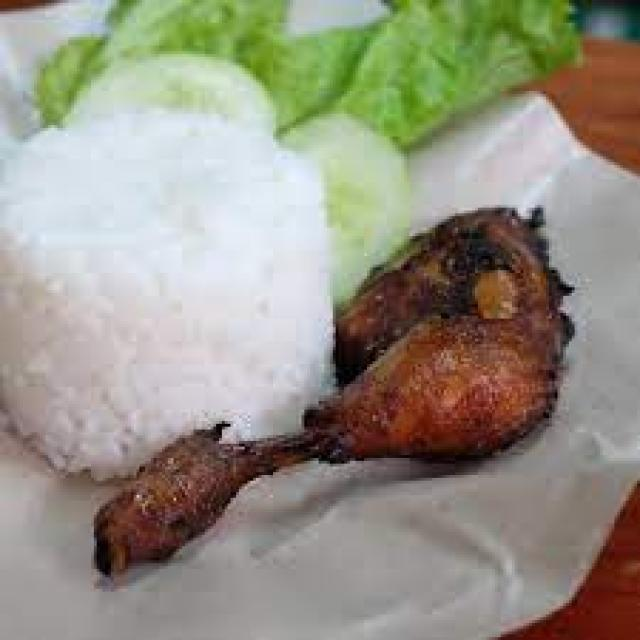Frango: (202, 256, 572, 640)
